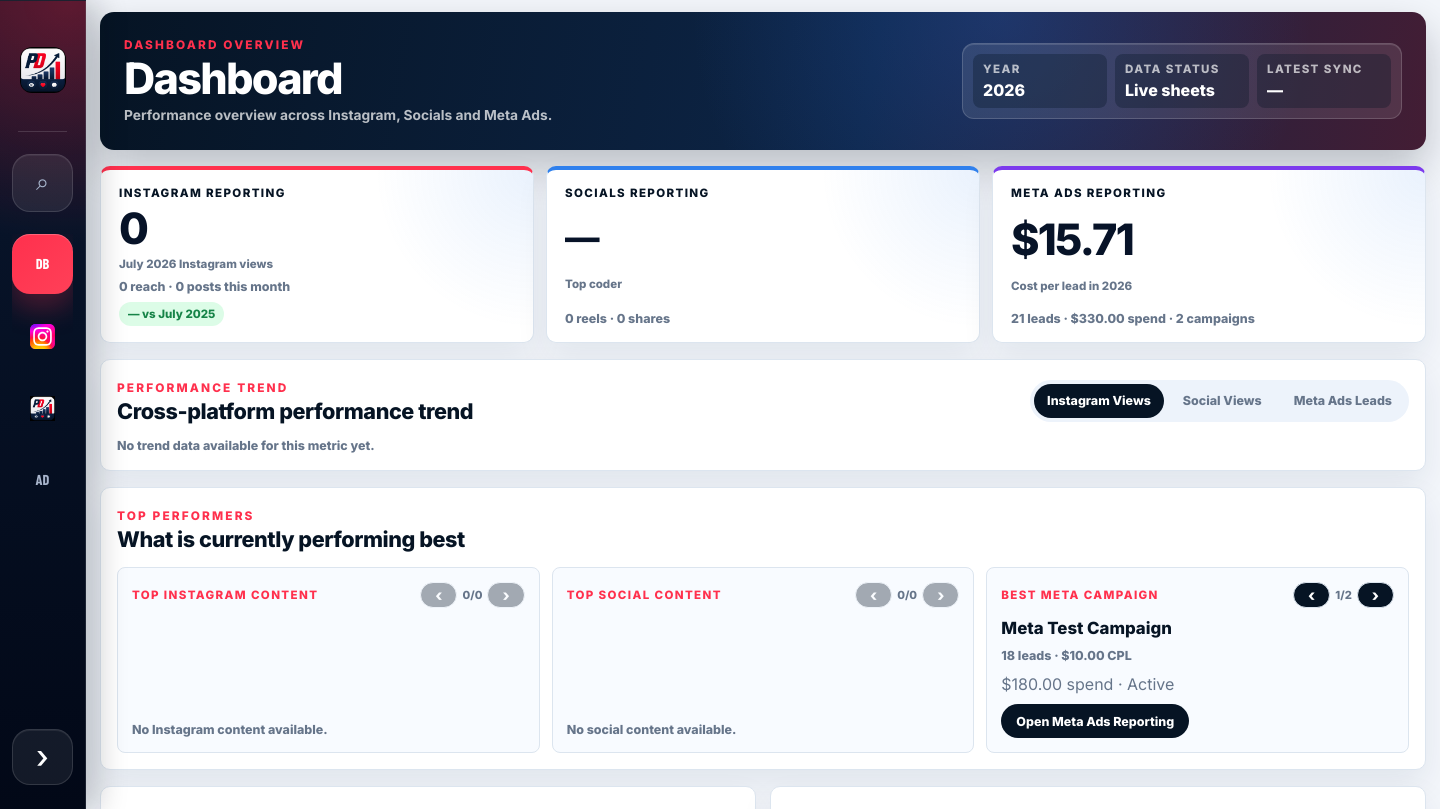
Test: uses Instagram loading state when the Instagram page is active
Click the button named "instagram reporting content groups".
click(42, 336)  # box [12,306,73,366]
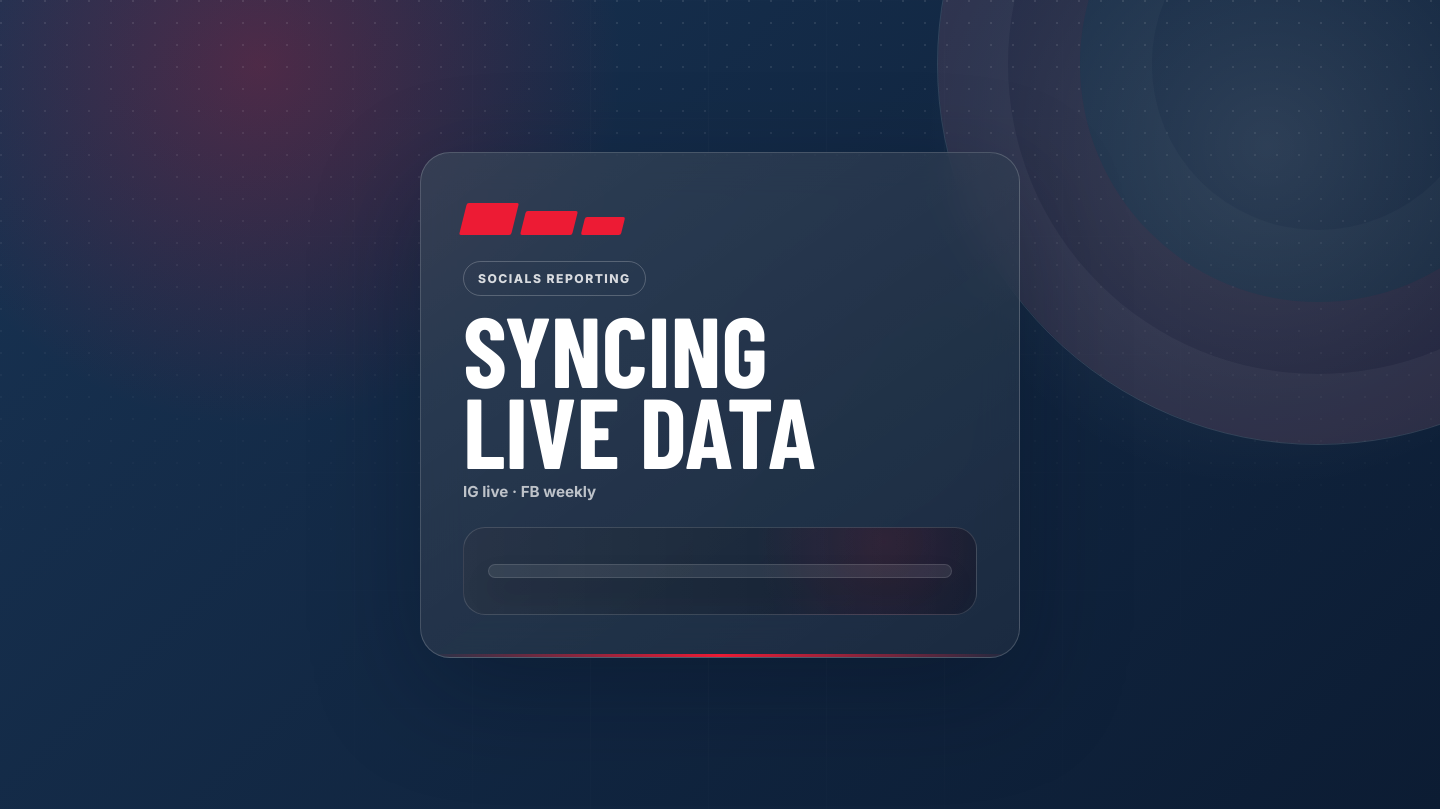
Check: the message shows "Syncing live data", box [463,289,816,489]
